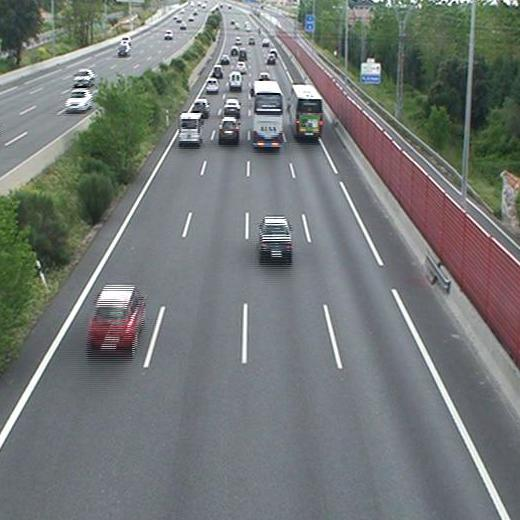bus: (253, 82, 282, 146), (291, 85, 322, 136)
car: (90, 287, 142, 350), (260, 218, 291, 260), (218, 119, 239, 142), (194, 98, 210, 115), (224, 100, 240, 113), (206, 78, 218, 92), (236, 61, 246, 71), (219, 54, 229, 64), (267, 53, 275, 65), (212, 66, 221, 76), (238, 51, 247, 61)
van: (179, 114, 202, 142), (230, 74, 242, 88)
